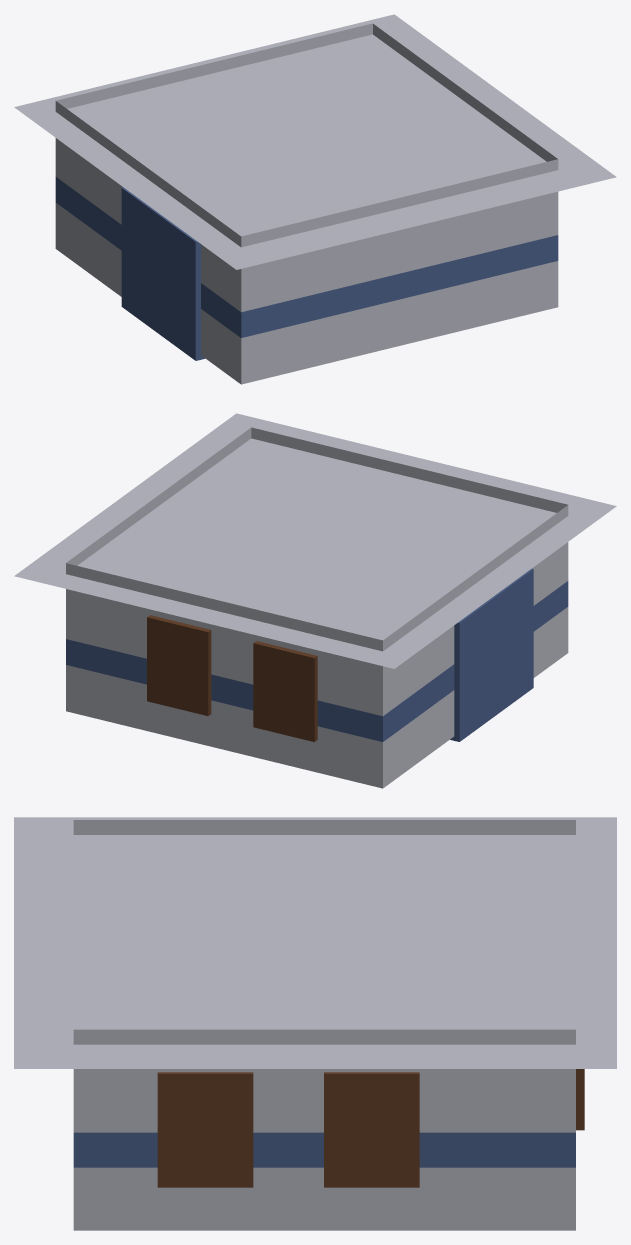
The model's file is MenuRoom.fbx.
3 views of the same model, one above another, from view 1: azimuth 30°, elevation 25°; view 2: azimuth 150°, elevation 25°; view 3: azimuth 270°, elevation 25° (orthographic). The views are drawn at different scales.
Parts seen in each view (by area): view 1: Cube.026_Cube.030, Cube_Cube.001, Cube.018_Cube; view 2: Cube.026_Cube.030, Cube_Cube.001, Cube.018_Cube, Cube.035, Cube.021_Cube.022; view 3: Cube.026_Cube.030, Cube_Cube.001, Cube.008_Cube.021, Cube.009_Cube.023, Cube.035.
Boxes of the visible parts, x1,y1,x2,y2 form: Cube.026_Cube.030: (14,14,616,269); Cube_Cube.001: (55,23,558,384); Cube.018_Cube: (121,187,204,360); Cube.026_Cube.030: (14,413,616,668); Cube_Cube.001: (66,427,568,788); Cube.018_Cube: (450,568,533,741); Cube.035: (147,615,211,715); Cube.021_Cube.022: (253,641,317,741); Cube.026_Cube.030: (14,817,616,1068); Cube_Cube.001: (73,820,575,1230); Cube.008_Cube.021: (157,1072,253,1187); Cube.009_Cube.023: (324,1072,419,1187); Cube.035: (576,1069,584,1130).
Size of the model in its own units: 901 by 912 by 345.
